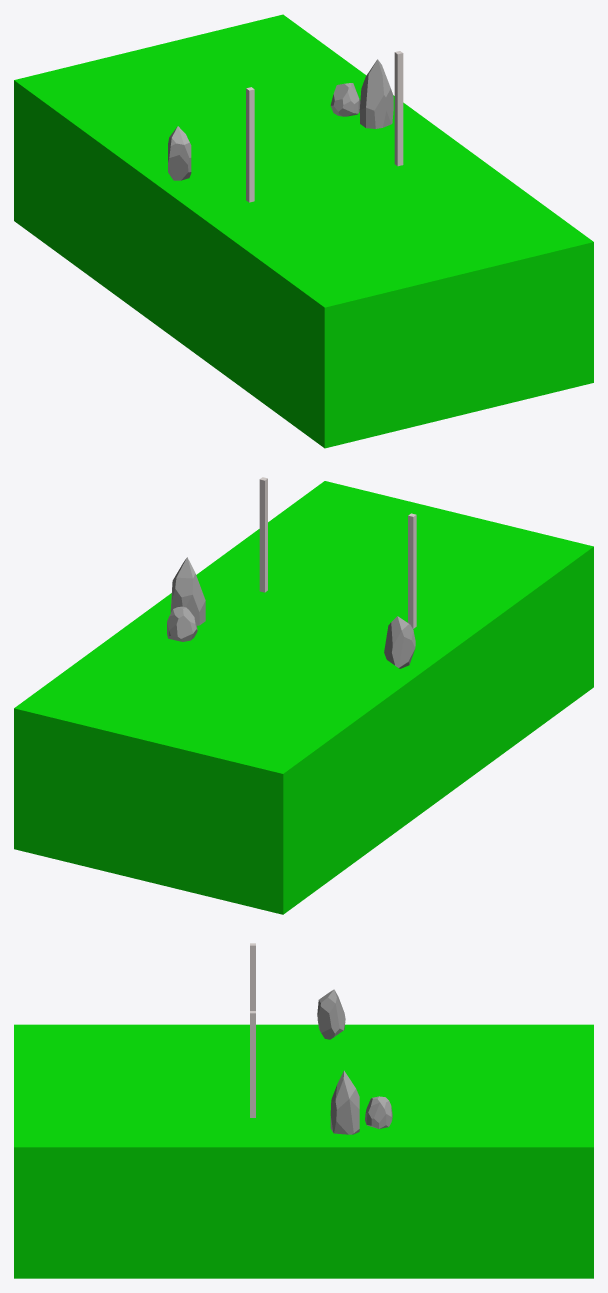
The model's file is Island_5.fbx.
3 views of the same model, one above another, from view 1: azimuth 30°, elevation 25°; view 2: azimuth 150°, elevation 25°; view 3: azimuth 270°, elevation 25° (orthographic). The views are drawn at different scales.
Parts seen in each view (by area): view 1: Island__5_, object1_1, Cube__13_; view 2: Island__5_, object1_1, Cube__13_; view 3: Island__5_, object1_1, Cube__13_.
Part boxes in pixels (<box>): Island__5_: <box>14,14,593,448</box>; object1_1: <box>168,59,393,180</box>; Cube__13_: <box>246,51,403,202</box>; Island__5_: <box>14,481,593,914</box>; object1_1: <box>167,557,415,668</box>; Cube__13_: <box>259,477,416,628</box>; Island__5_: <box>14,1024,593,1278</box>; object1_1: <box>317,989,392,1134</box>; Cube__13_: <box>250,943,255,1117</box>.
Size of the model in its own units: 1000 by 898 by 2000.
Materials: 1 (1 with a texture image).
